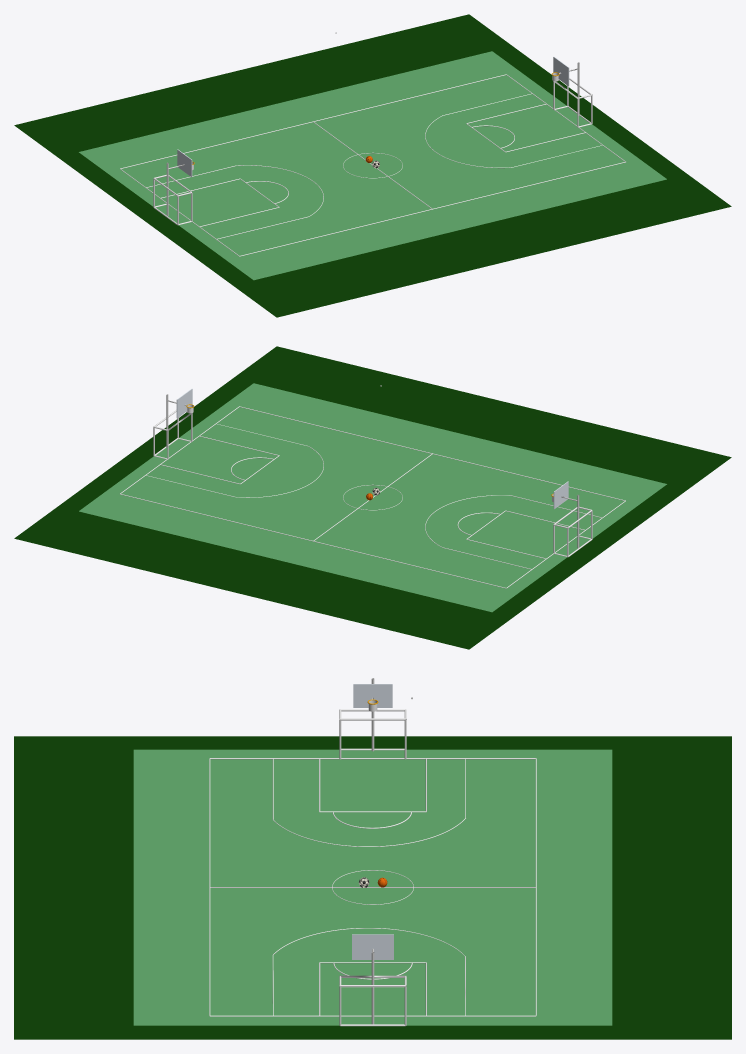
Rendered from ZonaJuegos.glb.
3 views of the same model, one above another, from view 1: azimuth 30°, elevation 25°; view 2: azimuth 150°, elevation 25°; view 3: azimuth 270°, elevation 25° (orthographic). The views are drawn at different scales.
Parts seen in each view (by area): view 1: Borde_Cancha, Suelo, B_Sur, B_Norte; view 2: Borde_Cancha, Suelo, B_Norte, B_Sur; view 3: Borde_Cancha, Suelo, Canasta_Este_Tablero, Canasta_Oeste_Tablero, B_Oeste, B_Oeste.001.
Boxes of the visible parts, box(x1,y1,x2,y2) form: Borde_Cancha: box(79, 51, 666, 280); Suelo: box(14, 14, 731, 317); B_Sur: box(239, 162, 625, 256); B_Norte: box(120, 74, 506, 168); Borde_Cancha: box(79, 383, 666, 612); Suelo: box(14, 346, 731, 649); B_Norte: box(120, 494, 506, 588); B_Sur: box(239, 406, 625, 500); Borde_Cancha: box(133, 749, 612, 1025); Suelo: box(14, 736, 731, 1039); Canasta_Este_Tablero: box(352, 934, 393, 959); Canasta_Oeste_Tablero: box(353, 684, 392, 707); B_Oeste: box(210, 758, 535, 759); B_Oeste.001: box(210, 1015, 535, 1016).
Bounding box in the file's own units: 33 × 8.94 × 33.
